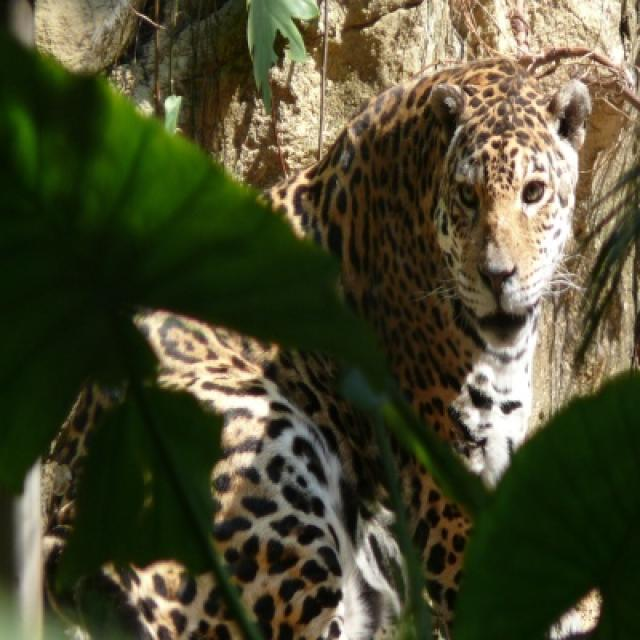Jaguar: (43, 73, 588, 638)
